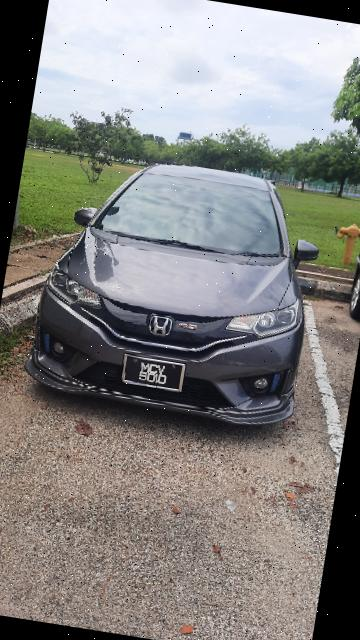License_Plate: (118, 352, 191, 395)
car: (12, 134, 353, 450)
